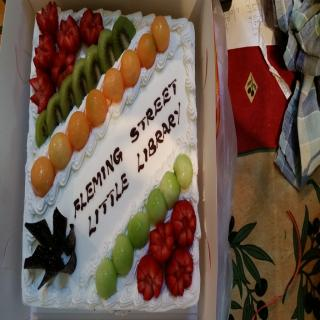Cake: (18, 1, 195, 320)
Strawberry: (163, 248, 194, 299), (171, 197, 197, 250), (149, 220, 175, 268), (29, 69, 56, 115), (49, 48, 74, 90), (55, 14, 81, 54), (138, 256, 161, 297), (33, 33, 57, 72), (80, 10, 106, 46), (35, 2, 58, 38)
